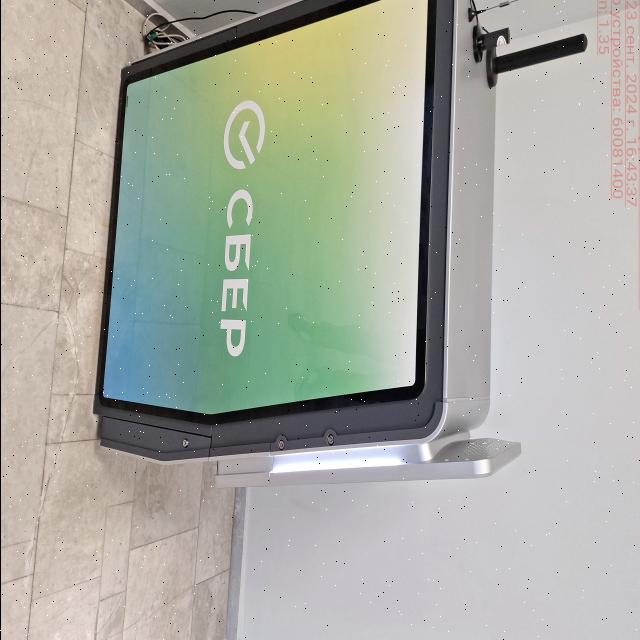bank: (94, 1, 516, 487)
